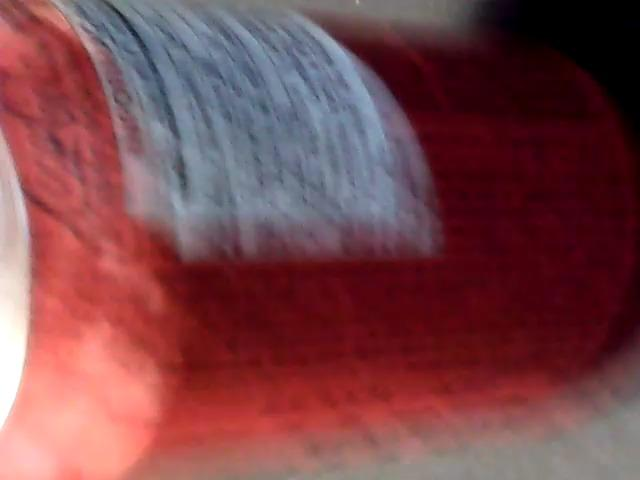coke: (0, 0, 630, 443)
